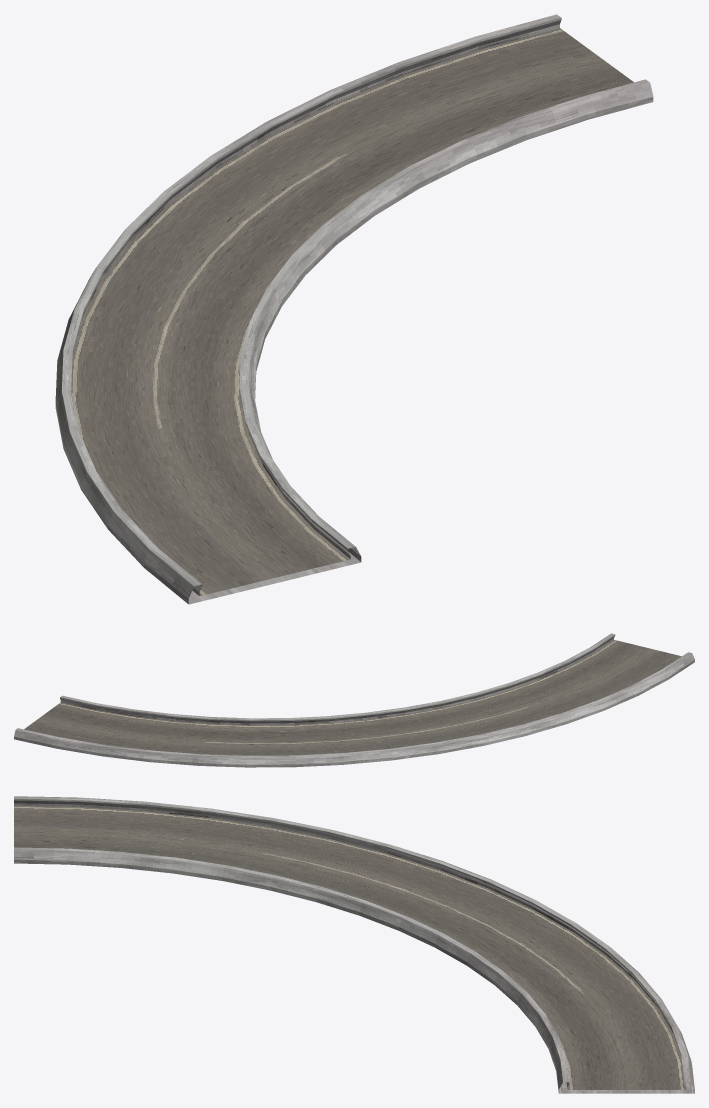
File: turn-right5x5.glb
3 renders of one model, top to bottom at view 1: azimuth 30°, elevation 25°; view 2: azimuth 150°, elevation 25°; view 3: azimuth 270°, elevation 25°, orthographic. The views are drawn at different scales.
Parts seen in each view (by area): view 1: road-Turn-Flat-Flat-Even-Right-Size5; view 2: road-Turn-Flat-Flat-Even-Right-Size5; view 3: road-Turn-Flat-Flat-Even-Right-Size5.
Boxes of the visible parts, x1,y1,x2,y2 form: road-Turn-Flat-Flat-Even-Right-Size5: (55,14,653,604); road-Turn-Flat-Flat-Even-Right-Size5: (14,633,694,767); road-Turn-Flat-Flat-Even-Right-Size5: (14,796,694,1093).
Bounding box in the file's own units: 5 × 0.0938 × 5.
Materials: 2 (2 with a texture image).
